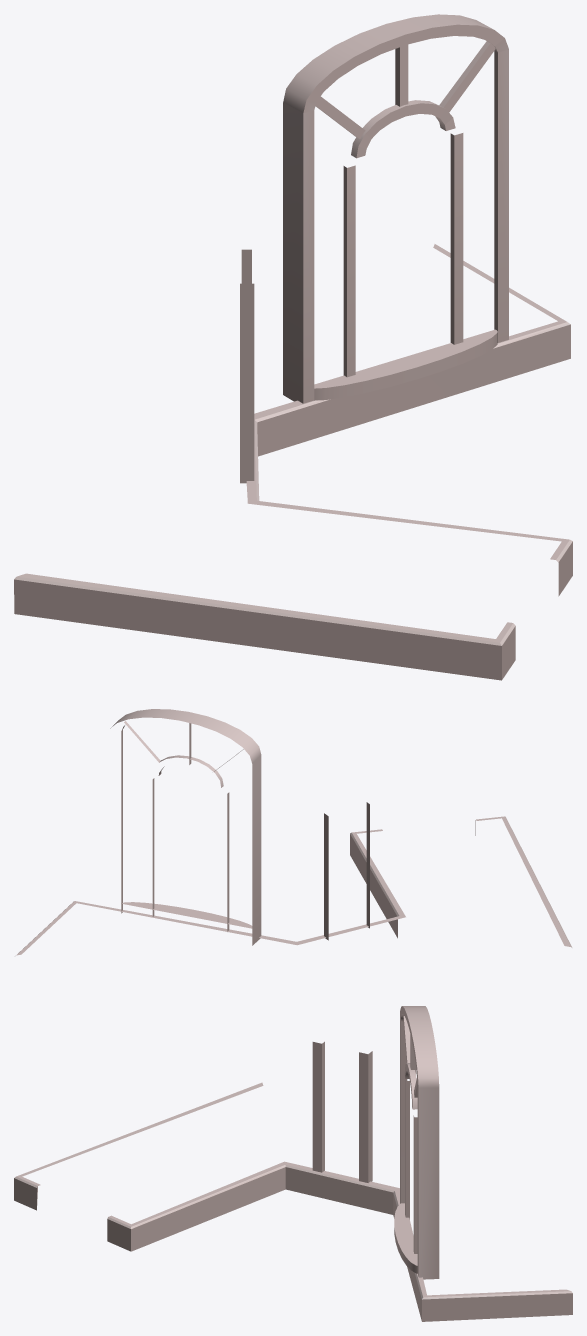
File: ClothingBuildingRock_0.glb
3 views of the same model, one above another, from view 1: azimuth 30°, elevation 25°; view 2: azimuth 150°, elevation 25°; view 3: azimuth 270°, elevation 25° (orthographic). The views are drawn at different scales.
Visible parts, largest first — view 1: ClothingBuildingRock; view 2: ClothingBuildingRock; view 3: ClothingBuildingRock.
Boxes of the visible parts, left/top/right/bottom form: ClothingBuildingRock: left=14, top=14, right=572, bottom=680; ClothingBuildingRock: left=16, top=709, right=572, bottom=955; ClothingBuildingRock: left=14, top=1006, right=572, bottom=1321.
Size of the model in its own units: 7.71 by 4.06 by 8.41.
